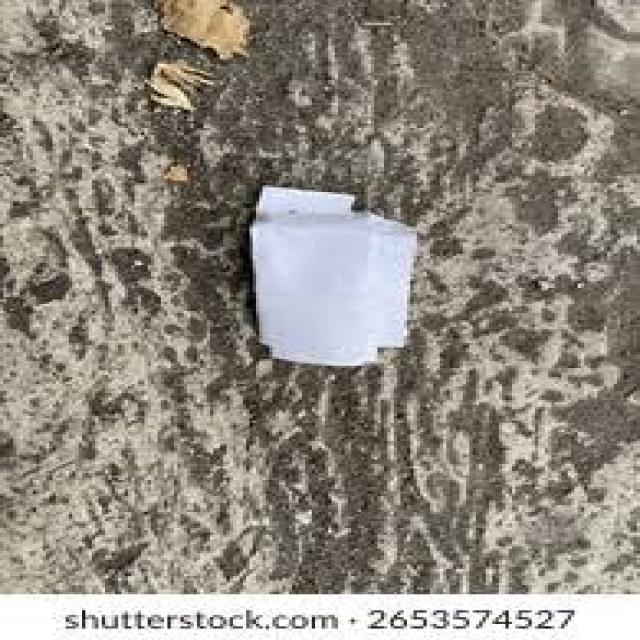styrofoam: (200, 133, 503, 376)
